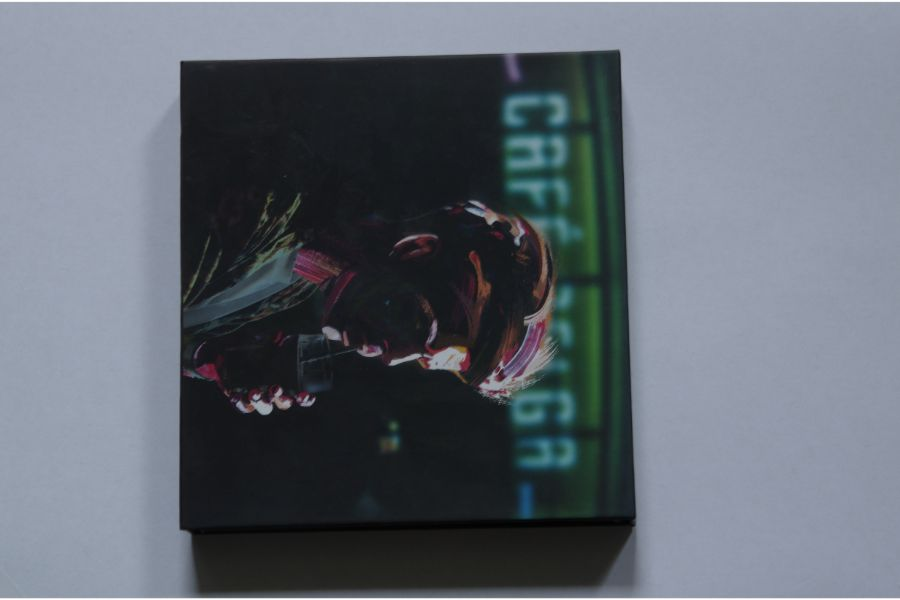album: (179, 50, 641, 528)
